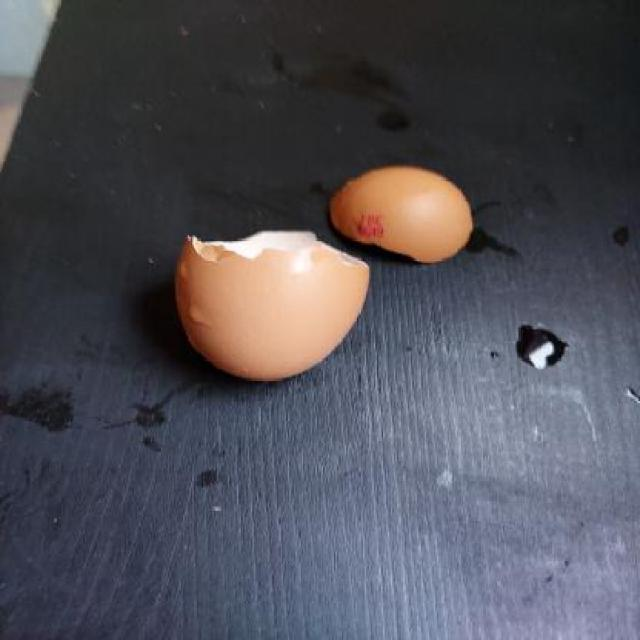biodegradable: (168, 228, 380, 389), (326, 164, 482, 262)
